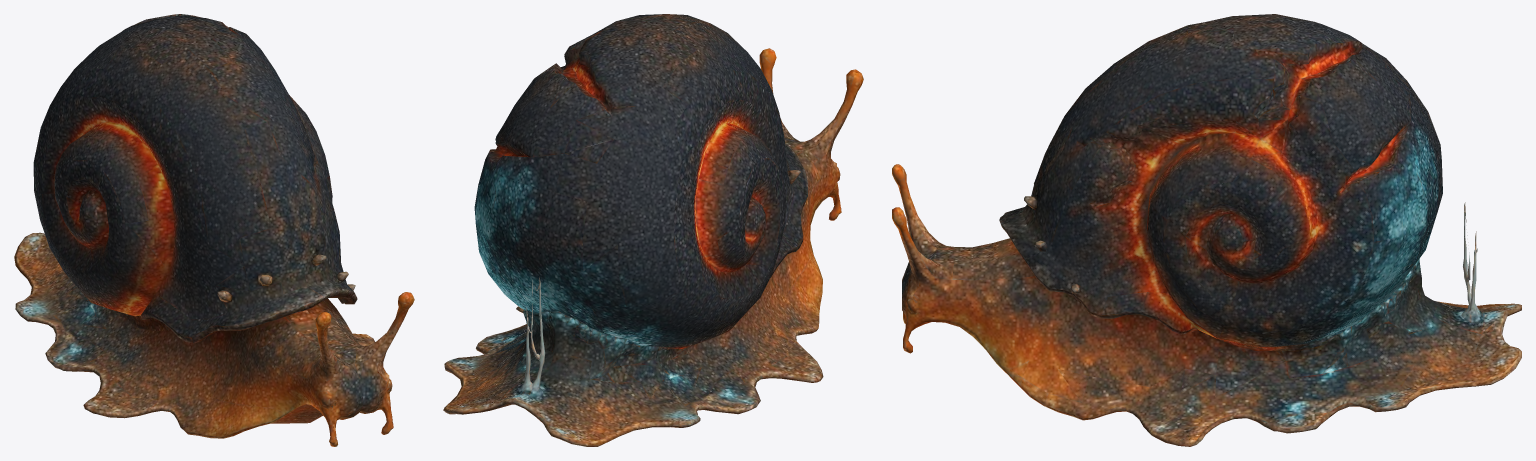
The model's file is hadal-ember-snail-echo.glb.
3 renders of one model, left to right at view 1: azimuth 30°, elevation 25°; view 2: azimuth 150°, elevation 25°; view 3: azimuth 270°, elevation 25°, orthographic. The views are drawn at different scales.
Visible parts, largest first — view 1: tripo_node_f9cfffed-350f-47c4-a061-5953ce17cee2; view 2: tripo_node_f9cfffed-350f-47c4-a061-5953ce17cee2; view 3: tripo_node_f9cfffed-350f-47c4-a061-5953ce17cee2.
Part boxes in pixels (x1=…): tripo_node_f9cfffed-350f-47c4-a061-5953ce17cee2: x1=14, y1=14, x2=414, y2=446; tripo_node_f9cfffed-350f-47c4-a061-5953ce17cee2: x1=443, y1=14, x2=863, y2=446; tripo_node_f9cfffed-350f-47c4-a061-5953ce17cee2: x1=892, y1=14, x2=1521, y2=446.
Size of the model in its own units: 0.5684 by 0.6113 by 0.998.
1 material, 1 textured.
